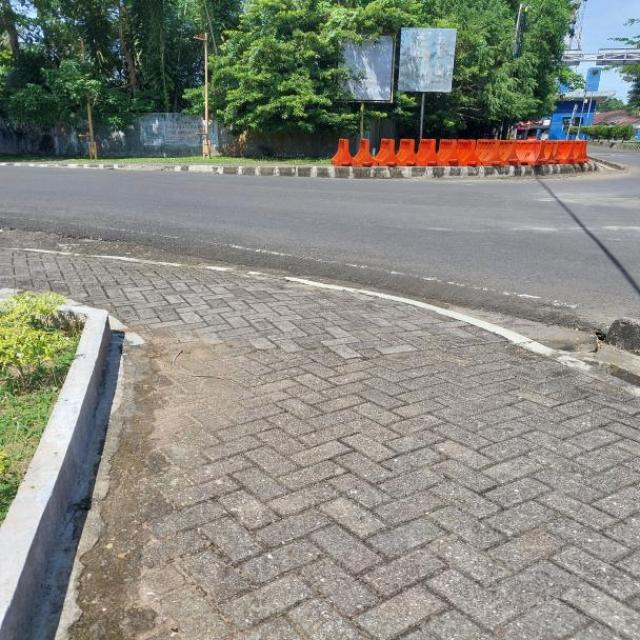barrier ahead at: (418, 132, 444, 168), (332, 136, 357, 169), (376, 134, 396, 166)
